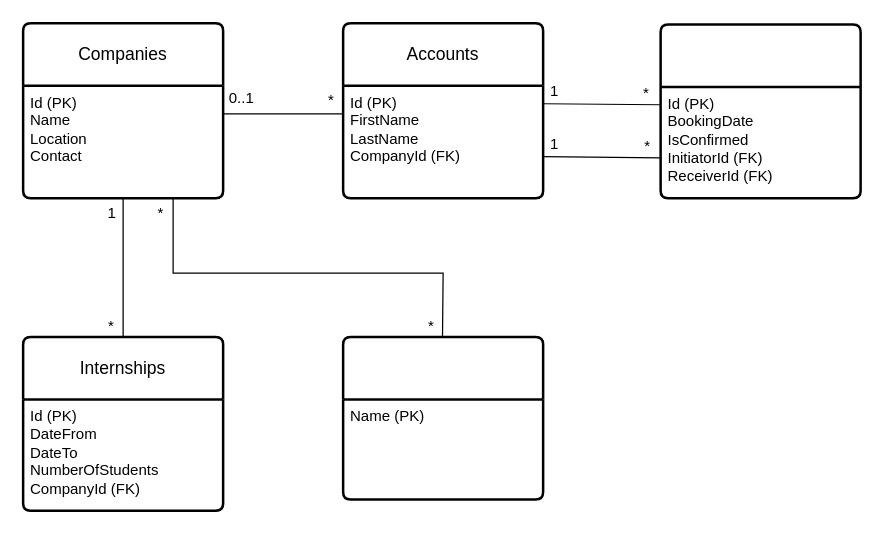
This 883x536 diagram has some shape labels left out. Here are the shapes that lost their labels. From the top down, the box of each, then its label:
(659, 22, 861, 199): Bookings
(341, 335, 544, 500): Categories
